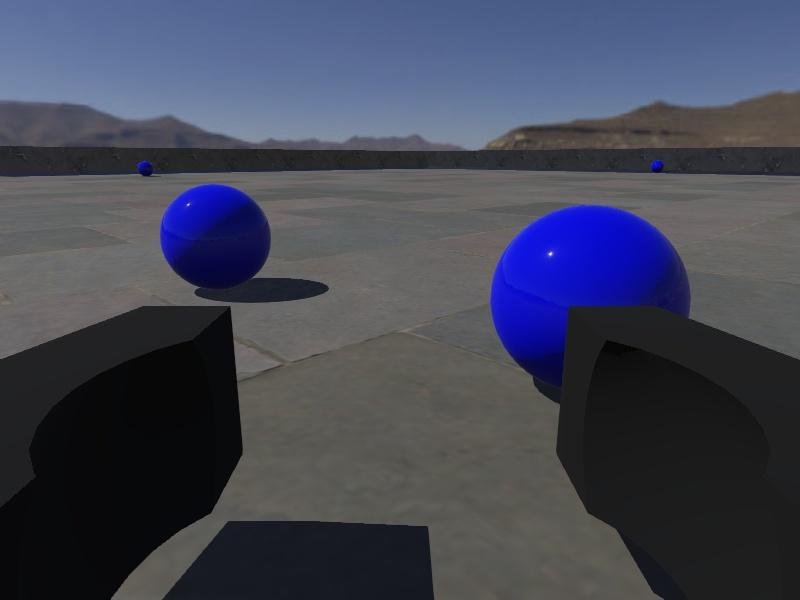blue ball: (159, 182, 272, 290), (137, 161, 153, 176), (649, 159, 665, 174)
